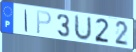2: (94, 18, 111, 45), (114, 20, 129, 47)
3: (56, 14, 71, 38)
I: (24, 8, 28, 34)
P: (35, 10, 52, 36)
U: (73, 13, 93, 42)
